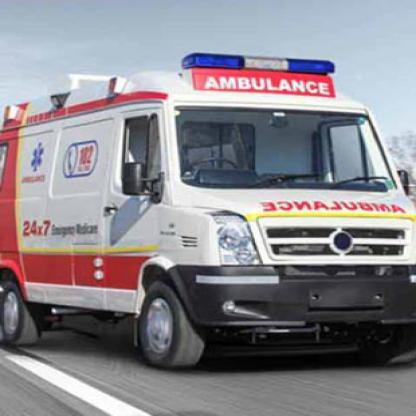ambulance_off: (0, 50, 414, 374)
